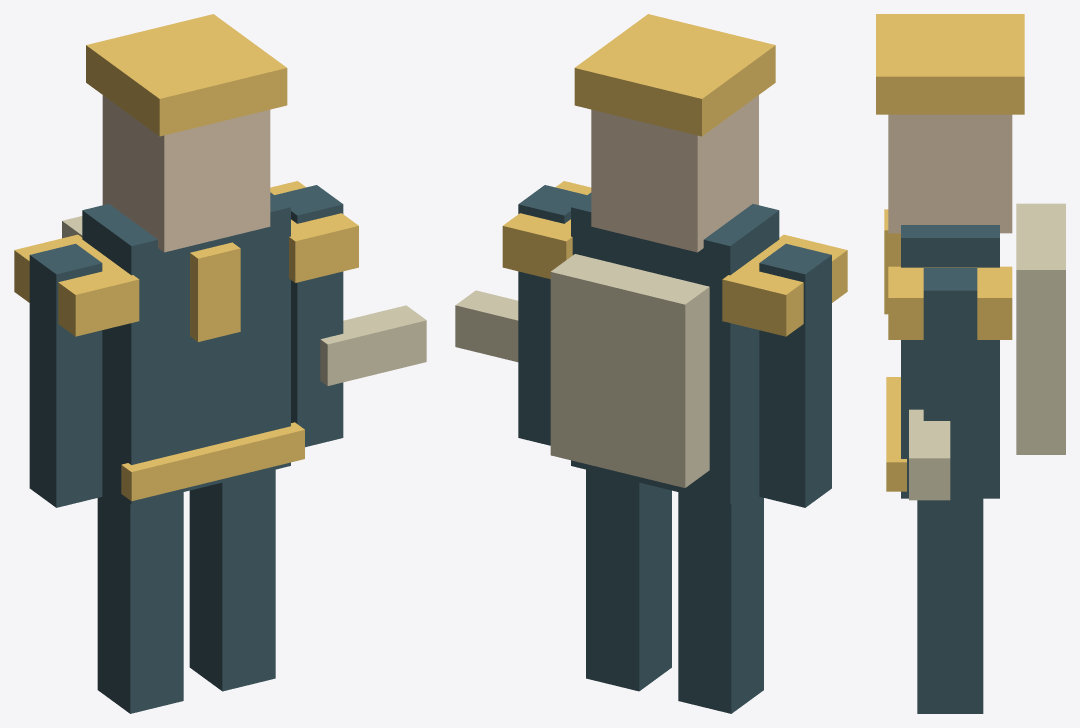
File: 02_quill_deepwell_cartographer_near.glb
The picture shows the model from 3 angles, left to right: view 1: azimuth 30°, elevation 25°; view 2: azimuth 150°, elevation 25°; view 3: azimuth 270°, elevation 25°; orthographic projection.
Visible parts, largest first — view 1: Quill Deepwell, Cartographer near; view 2: Quill Deepwell, Cartographer near; view 3: Quill Deepwell, Cartographer near.
Boxes of the visible parts, x1,y1,x2,y2 form: Quill Deepwell, Cartographer near: (14, 14, 426, 713); Quill Deepwell, Cartographer near: (455, 14, 847, 713); Quill Deepwell, Cartographer near: (876, 14, 1065, 713).
Bounding box in the file's own units: 1.03 × 1.7 × 0.461.
